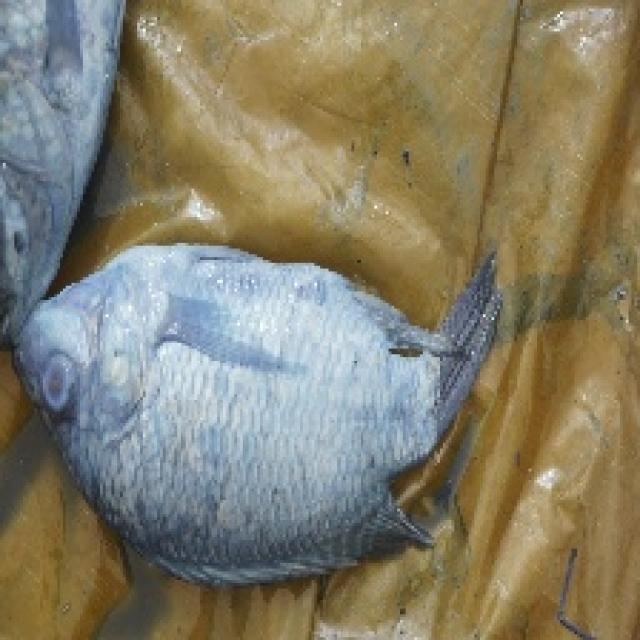Non-Fresh: (15, 238, 457, 584)
